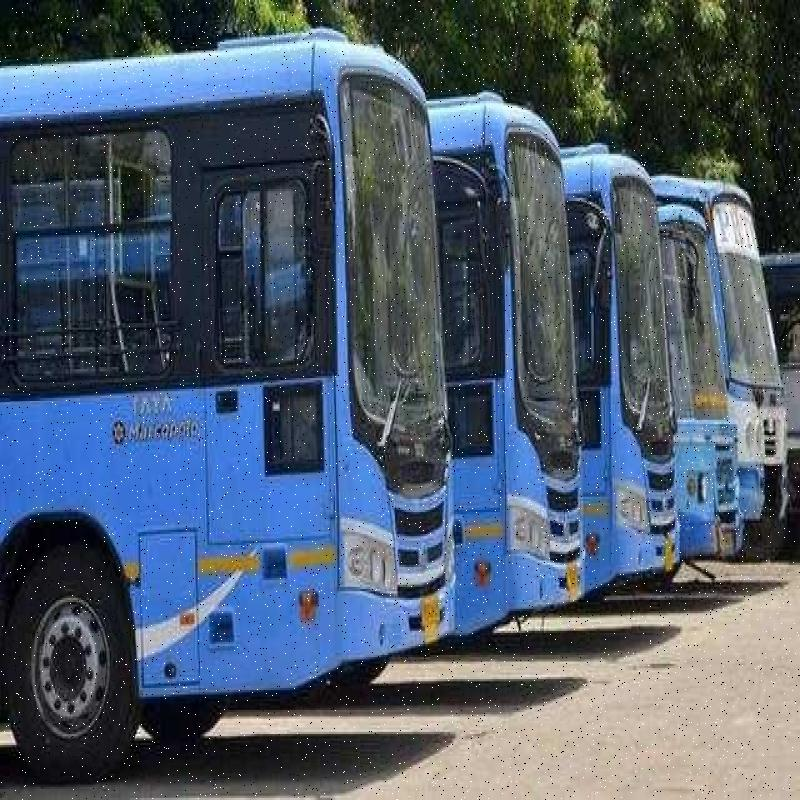bus: (16, 46, 446, 730), (462, 79, 594, 654), (592, 91, 686, 619), (679, 111, 749, 575)
